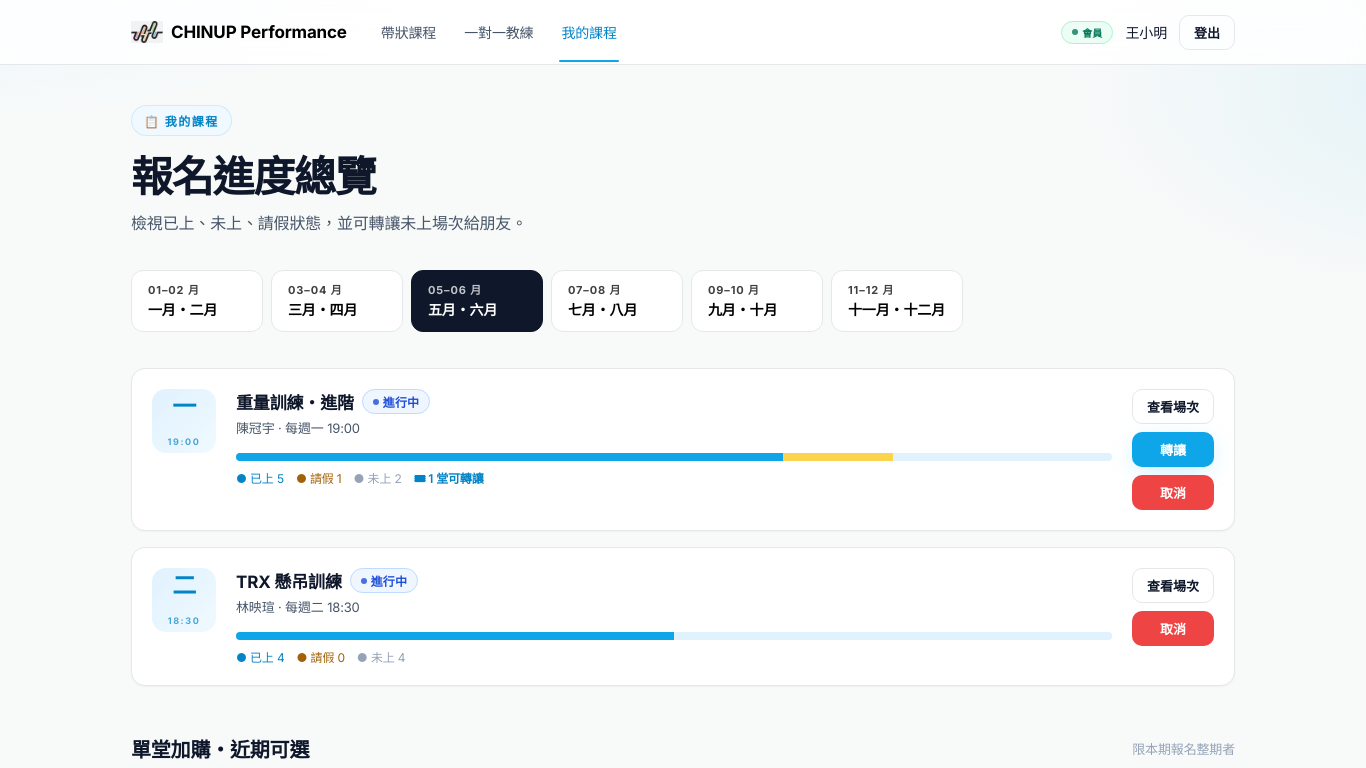
Test: MyCoursesPage › cancels a registration when user confirms
Expected: the heading "重量訓練・進階" is shown, 236,389 -> 354,414
Click the button "取消" in the row of "堂可轉讓" at (1173, 493), box 1132,475 -> 1214,510
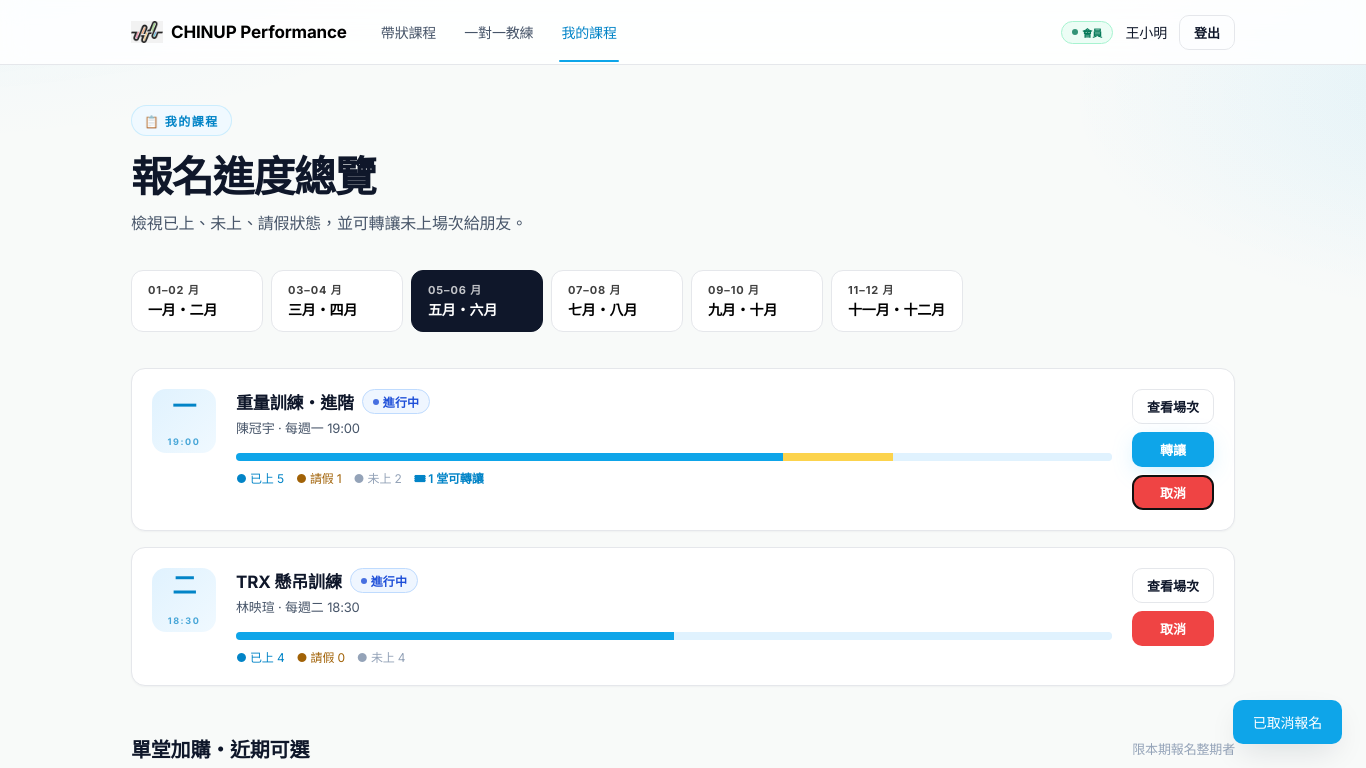
Expected: the text "已取消報名" is shown, 1233,700 -> 1342,744
